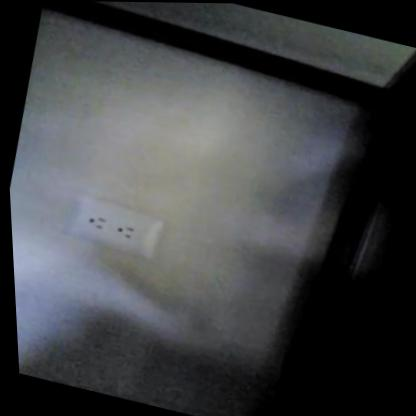OUTLET: (60, 195, 168, 263)
